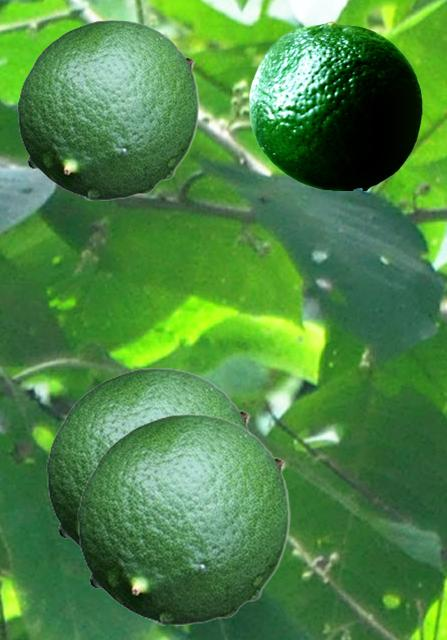calamansi: (77, 413, 289, 624), (46, 367, 253, 550), (17, 19, 198, 199), (249, 21, 421, 189)
